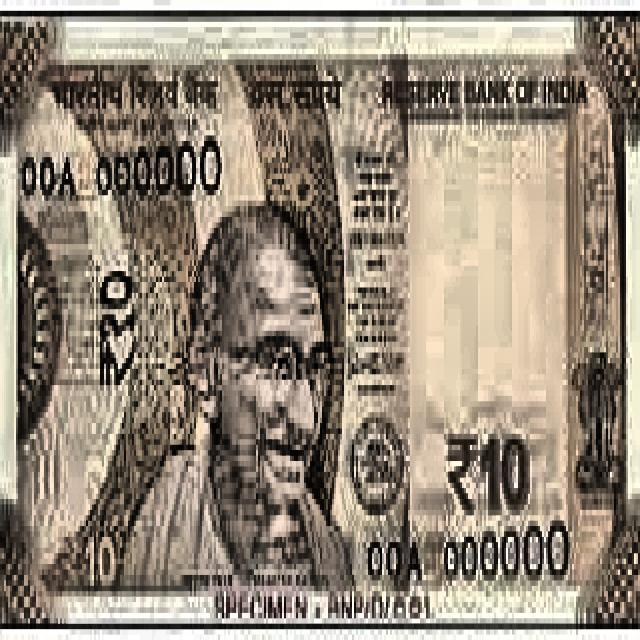-10-: (4, 20, 640, 601)
